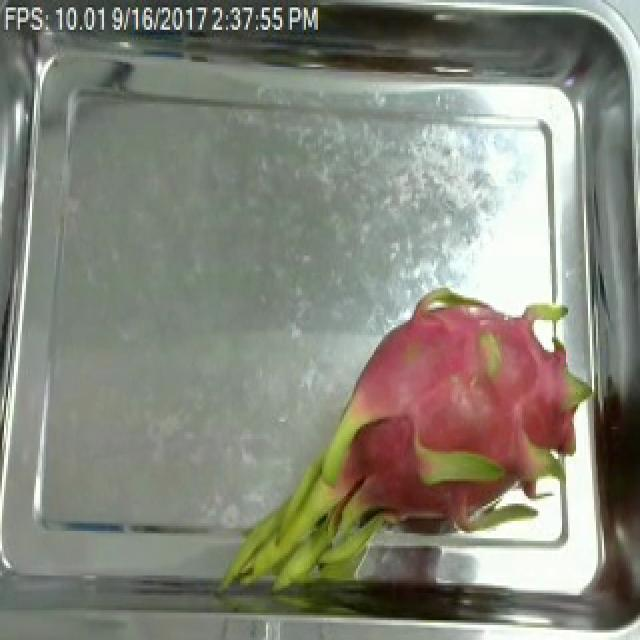fruit: (220, 268, 618, 620)
